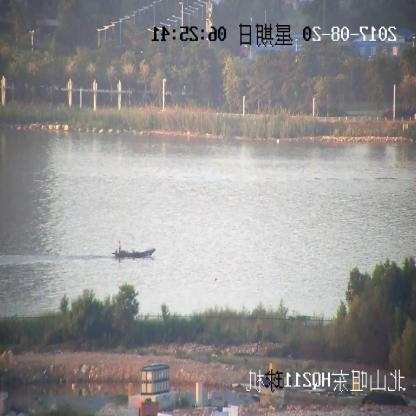Fishing Boat: (114, 241, 156, 257)
